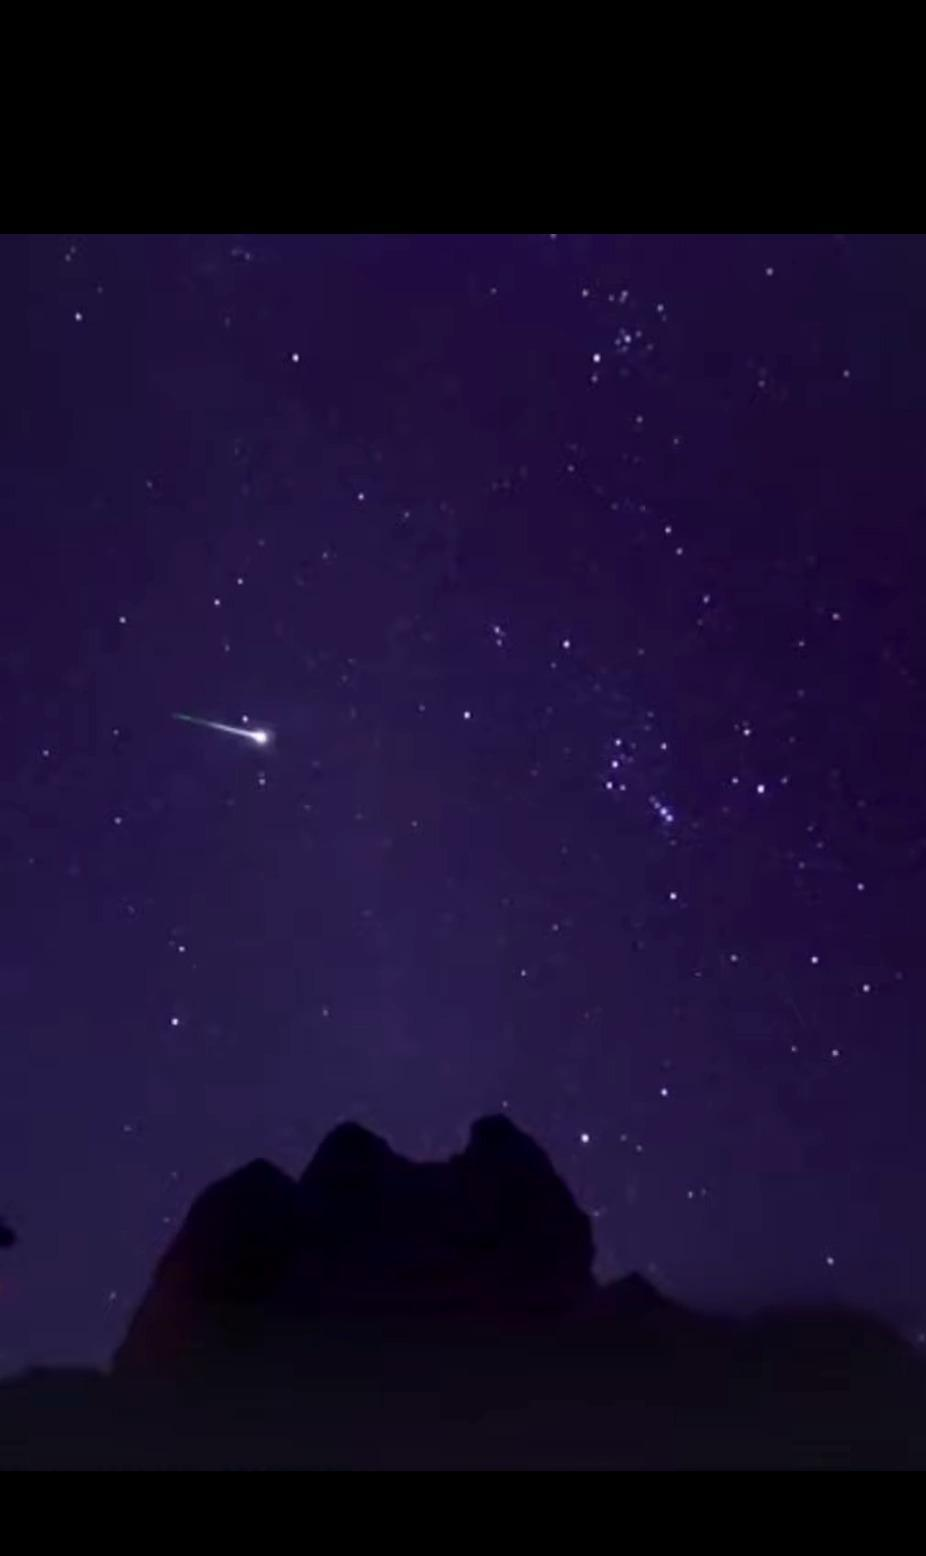meteorite: (155, 701, 301, 764)
